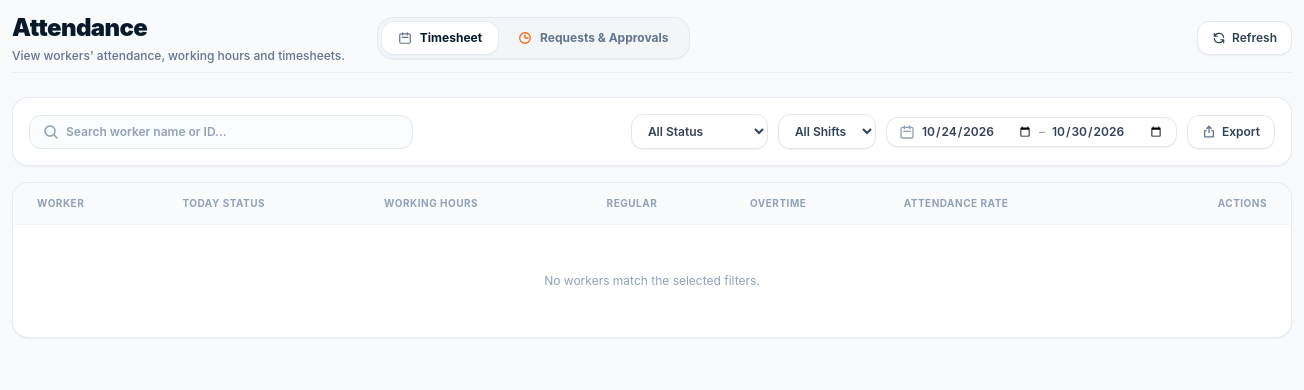
it: shows an empty pending queue without a review notification when all requests are reviewed
Expected: the link "Correction requests" is not shown
Click the button "Requests & Approvals" at (593,38), box [502, 22, 684, 54]
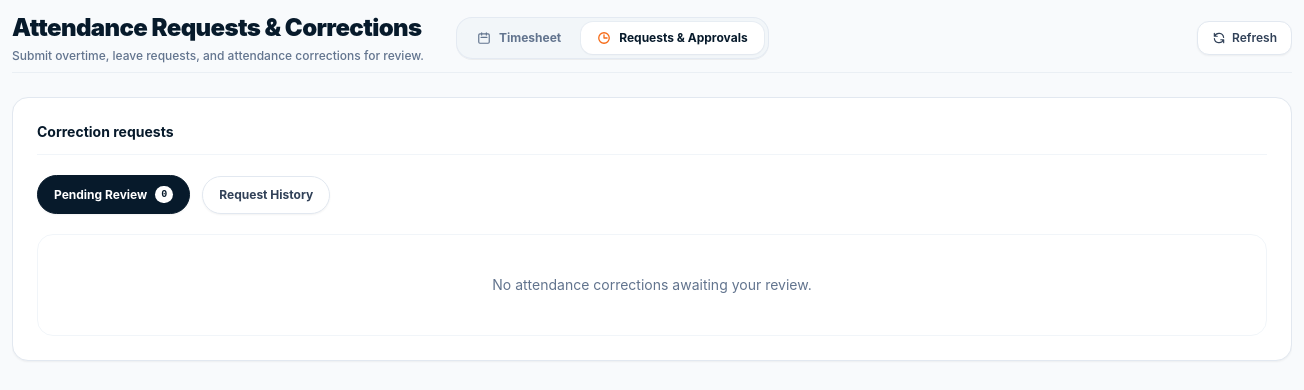
Click the tab "Request History" at (266,195), box [202, 176, 330, 214]
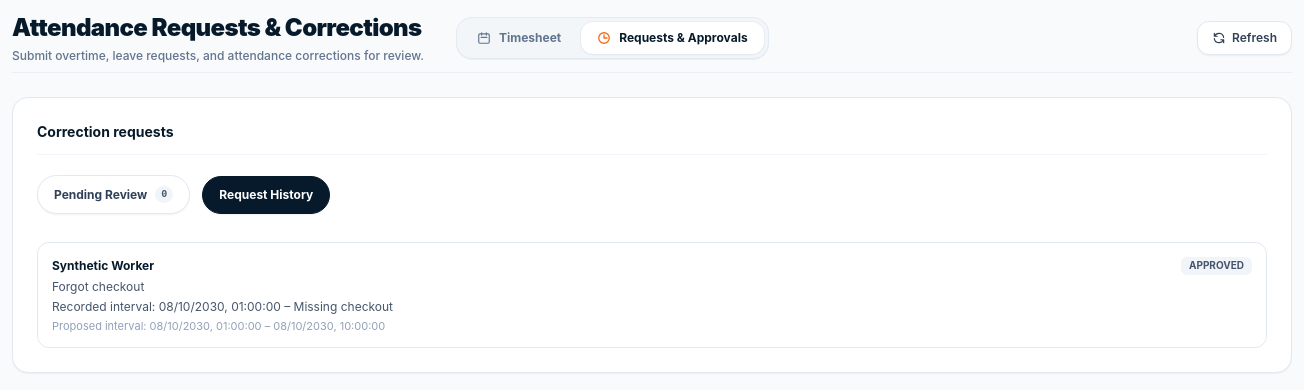
Expected: the text "Forgot checkout" is shown, [52, 279, 144, 294]
